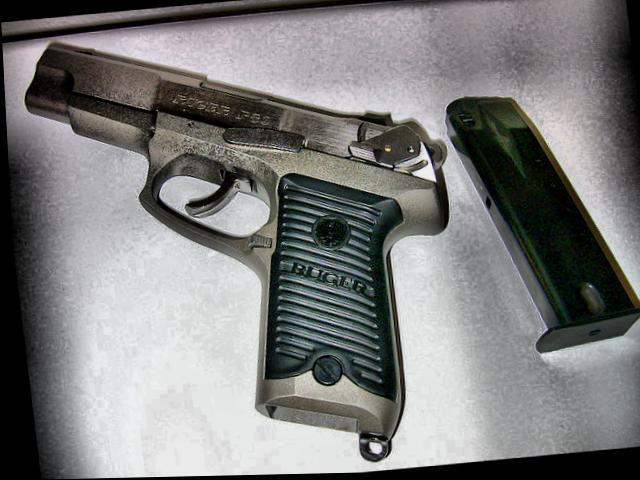pistol: (14, 7, 474, 467)
